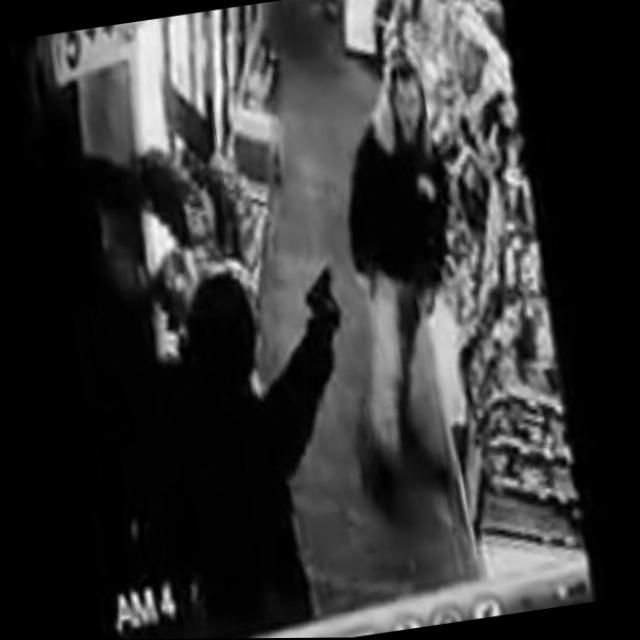weapon: (298, 258, 345, 336)
